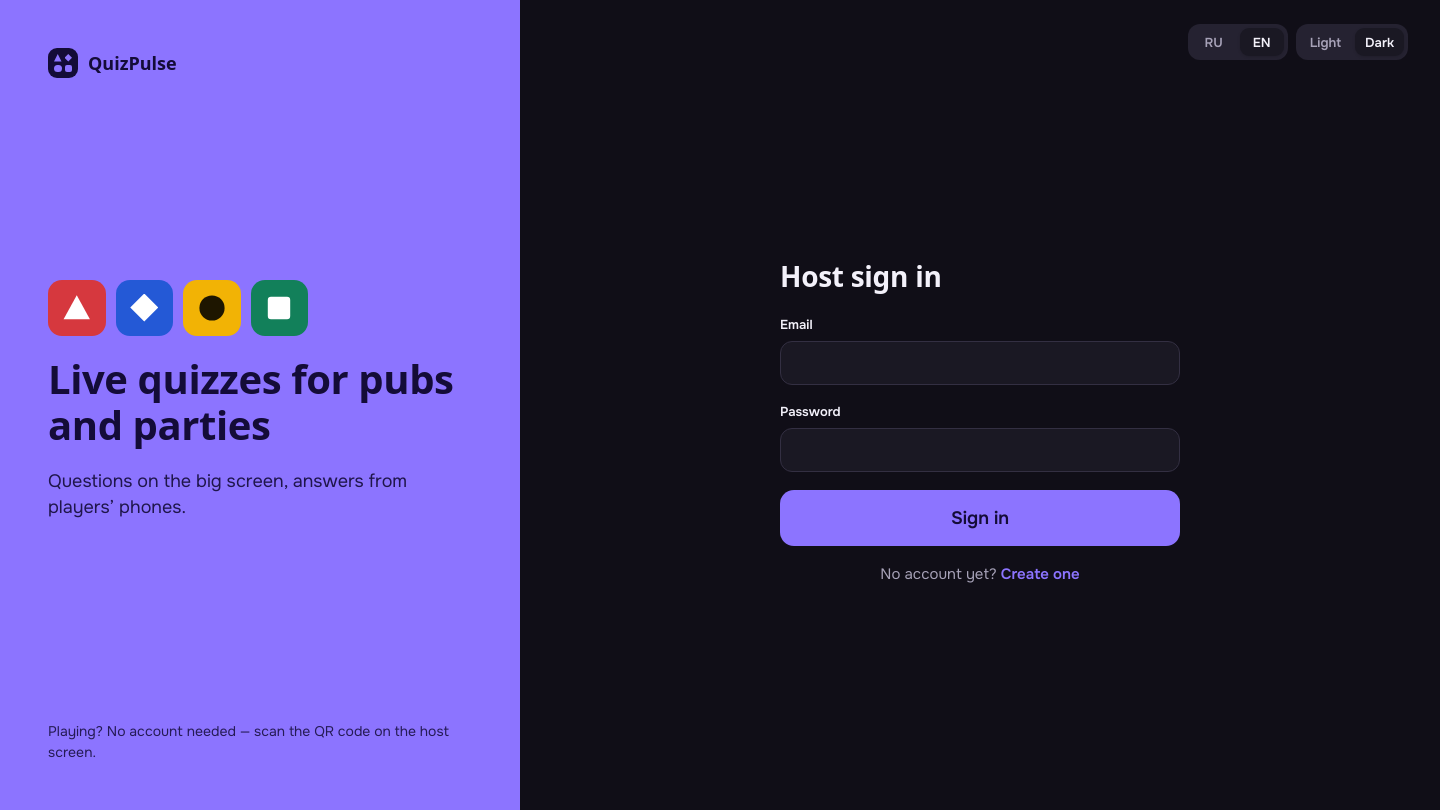
Test: login page › shows INVALID_CREDENTIALS banner
Type "host@example.com" into the field labelled "Email" at point(980, 363), box [780,341,1180,385]
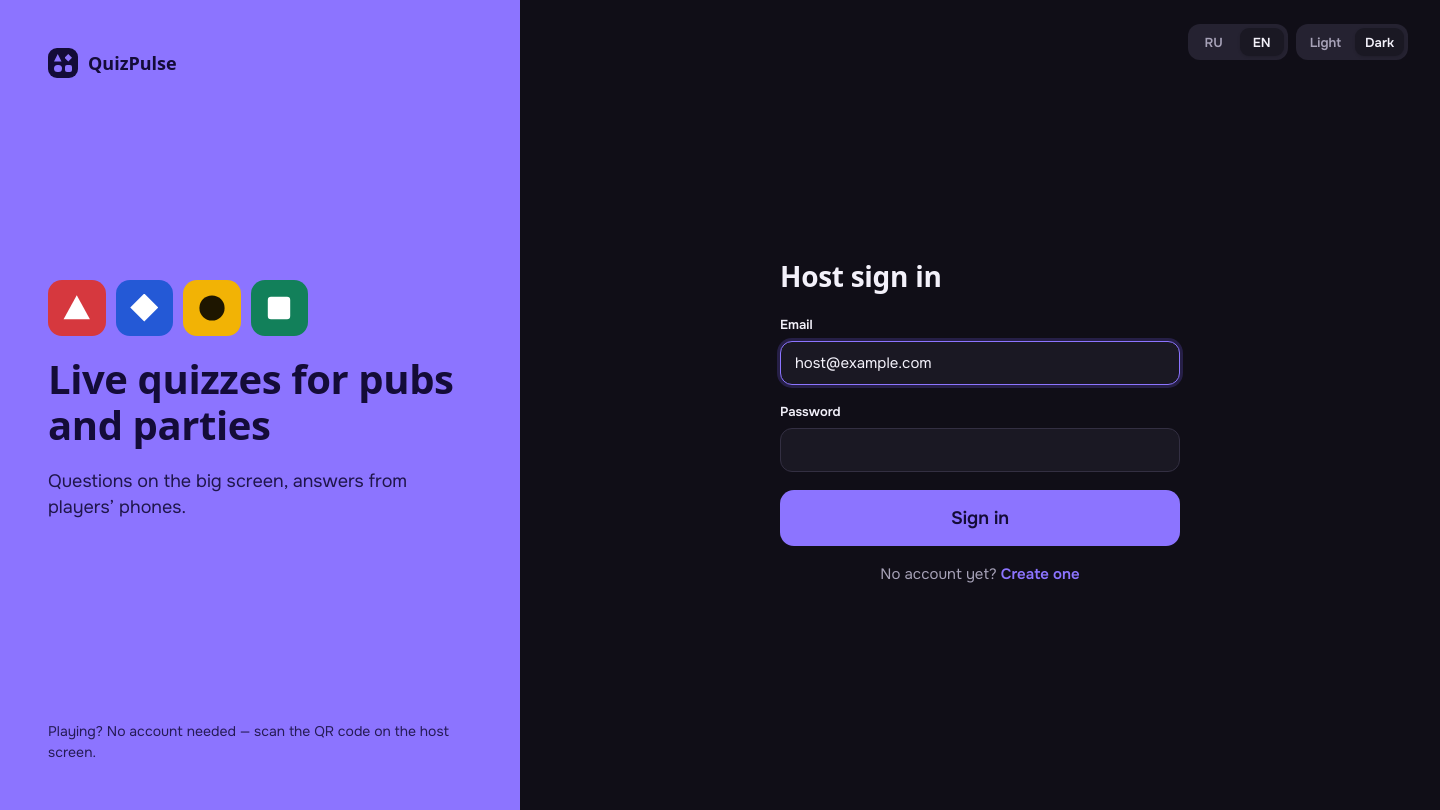
Type "wrong-pass" into the password field labelled "Password" at point(980, 450), box [780,428,1180,472]
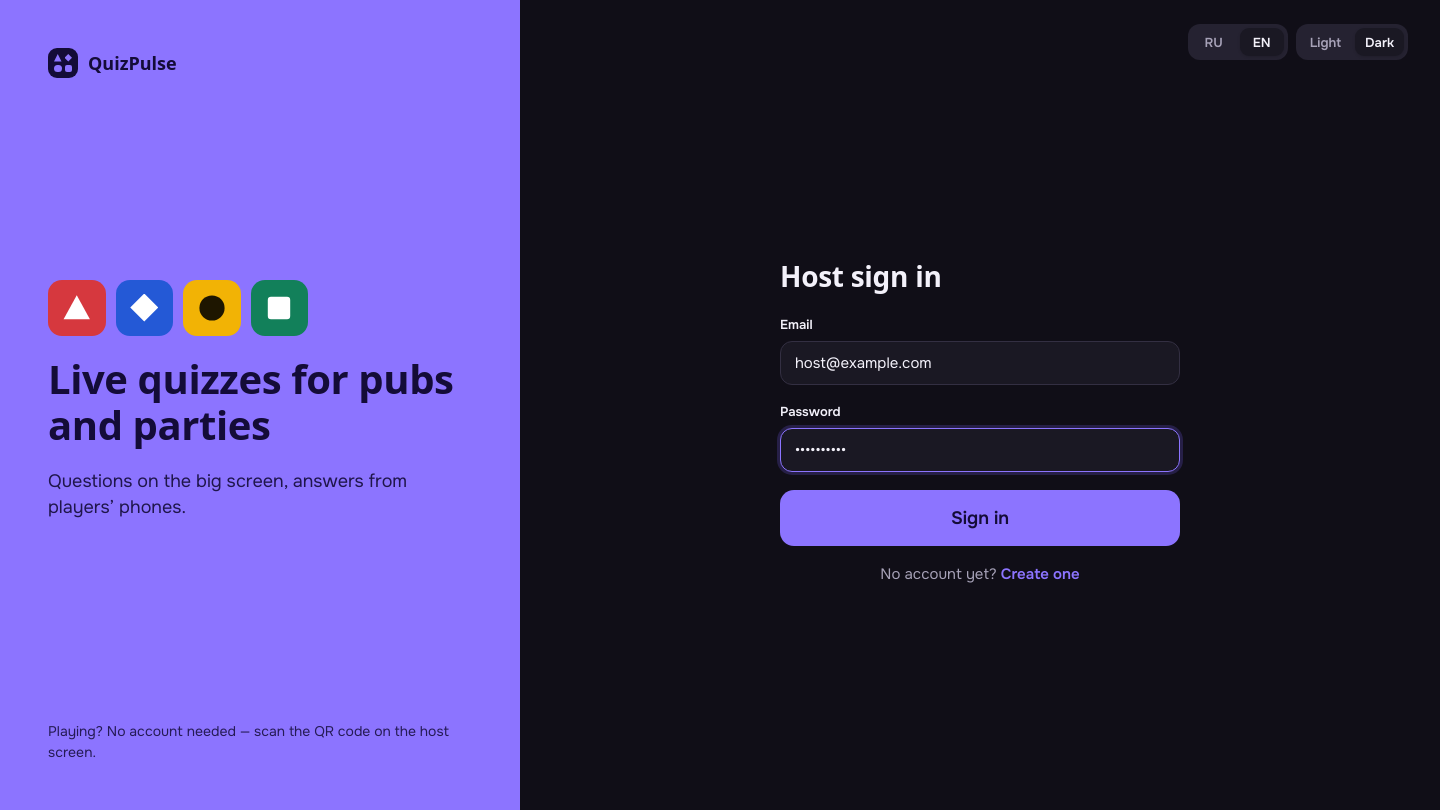
Click the button "Sign in" at point(980, 518), box [780,490,1180,546]
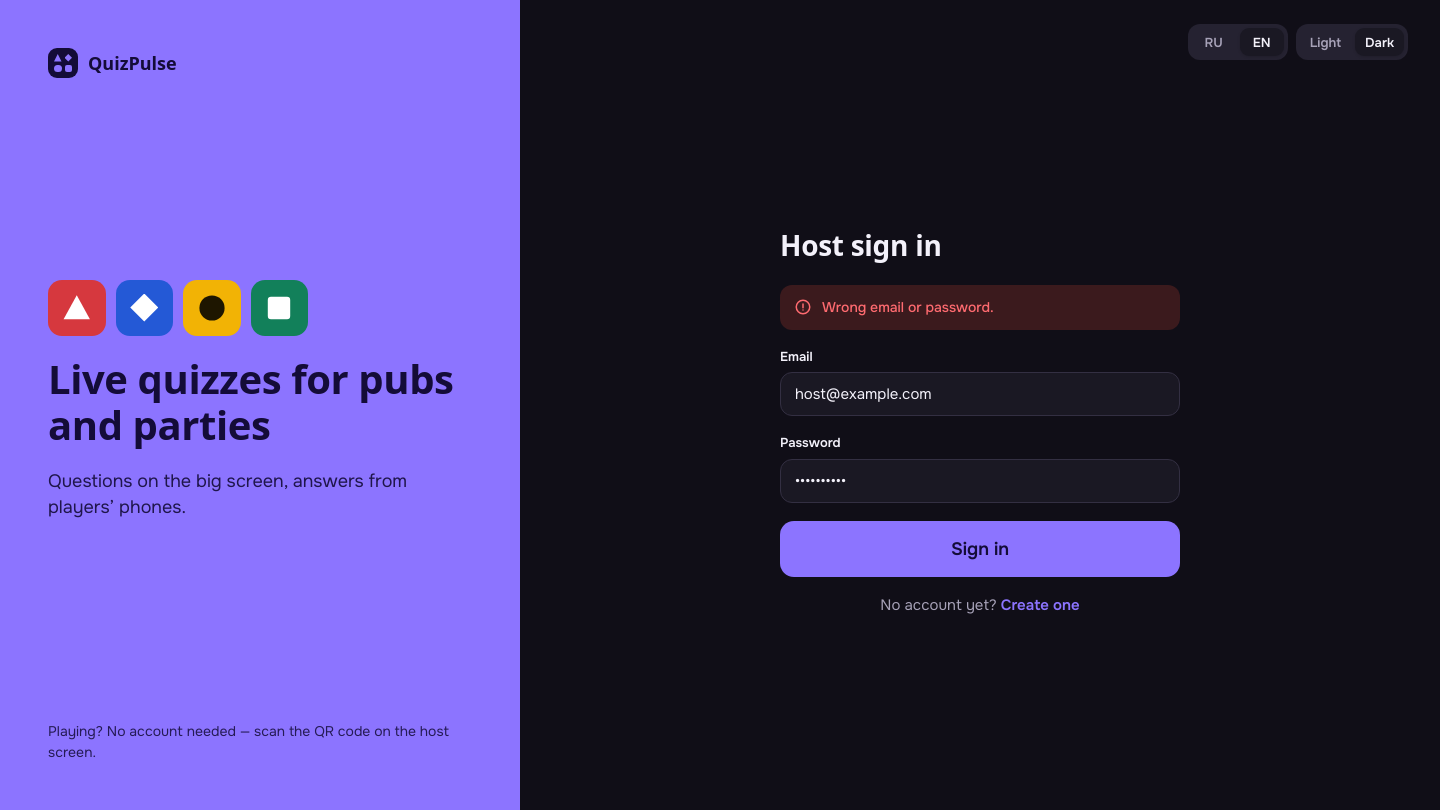
expect the button "Sign in" is enabled: met, box [780,521,1180,577]
expect the message reads "Wrong email or password.": met, box [822,298,994,316]
